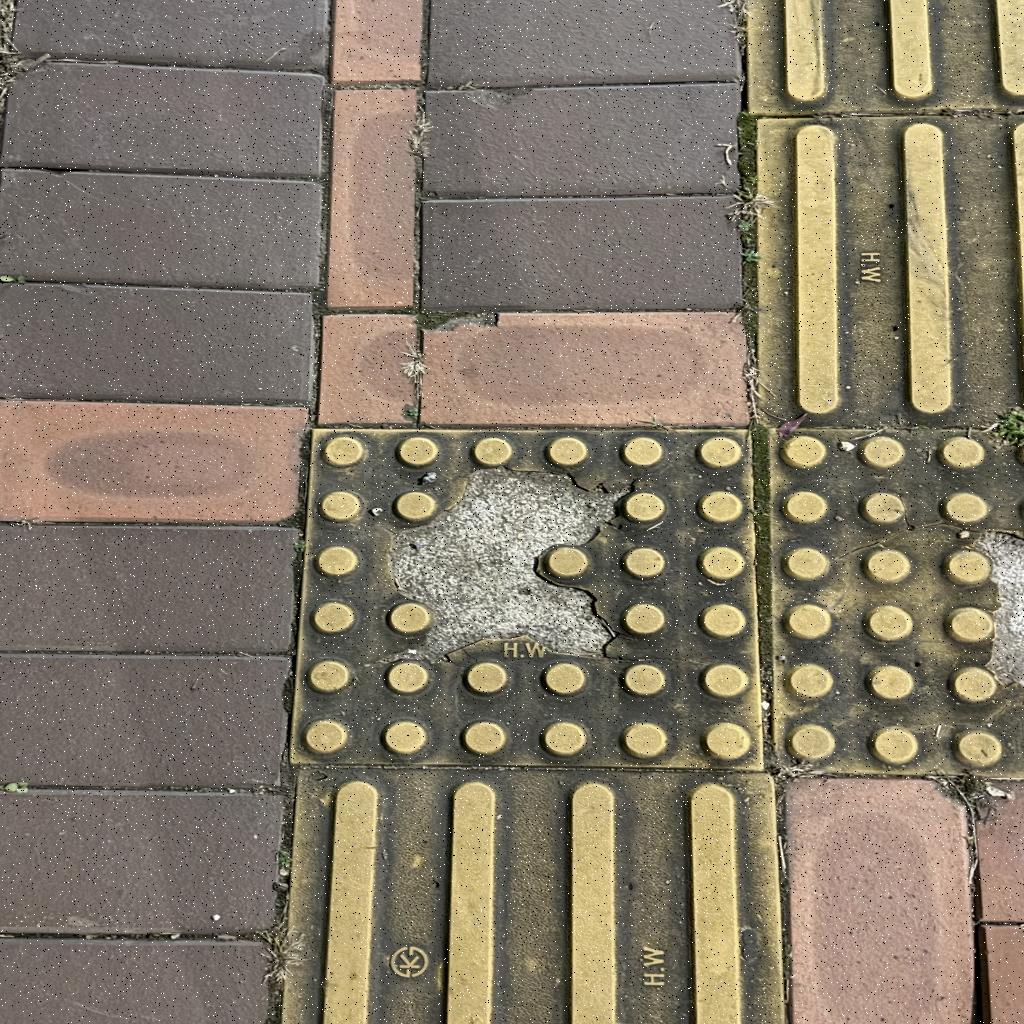Stop block broken: (294, 430, 760, 765)
